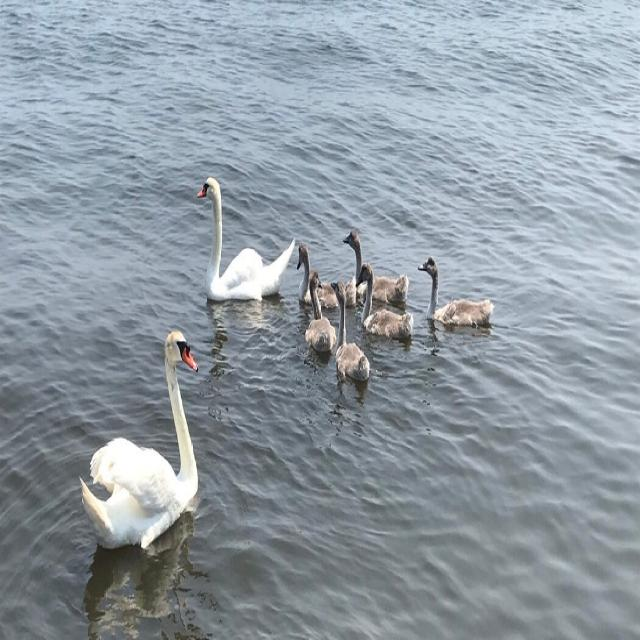swan: (81, 332, 197, 548), (198, 177, 295, 300), (419, 257, 493, 325), (361, 264, 413, 339), (331, 282, 369, 381), (305, 272, 336, 354)
